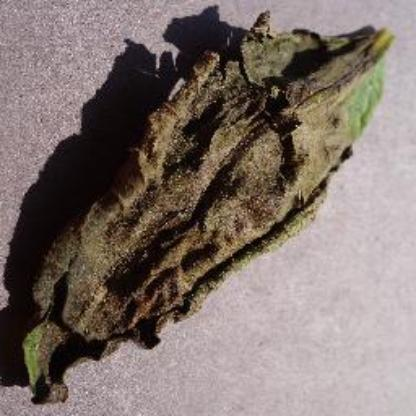Late-Blight: (26, 5, 388, 409)
